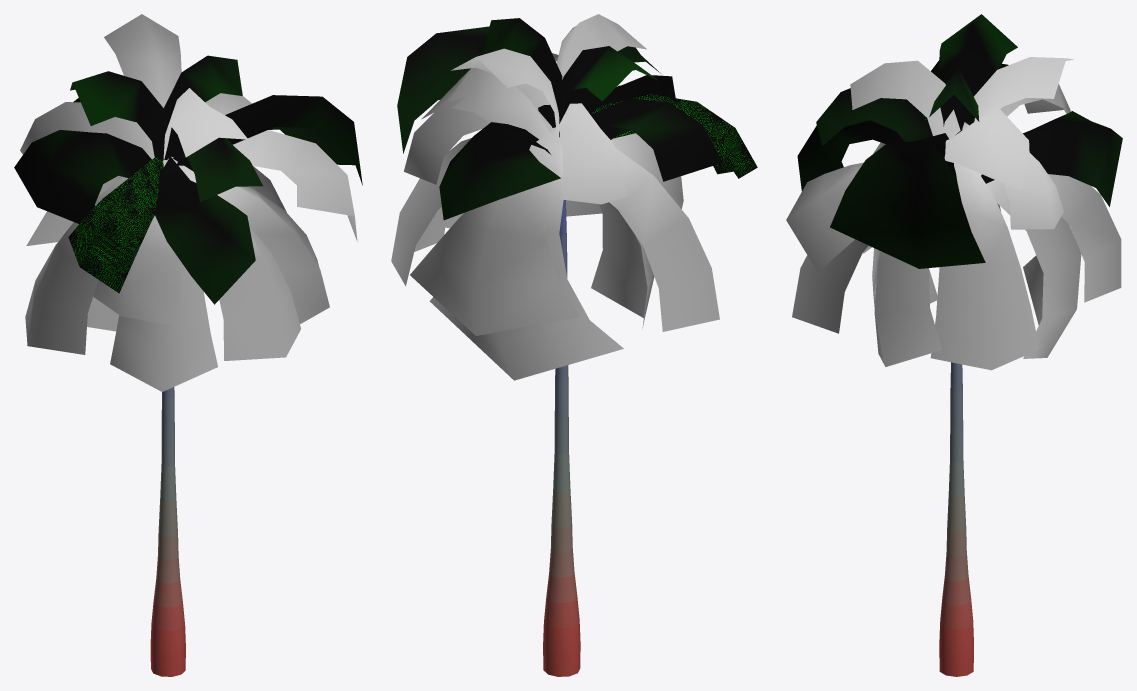
Rendered from PalmTree_single_afsTREE 1_xlb25_xlprl30_xef05.fbx.
3 views of the same model, side by side, from view 1: azimuth 30°, elevation 25°; view 2: azimuth 150°, elevation 25°; view 3: azimuth 270°, elevation 25° (orthographic). The views are drawn at different scales.
Visible parts, largest first — view 1: trunk01, Mesh_xp02 (×2), leaf_xp01, Mesh_xt06, Mesh (4), Mesh (3), Mesh_xw07, leaf_xw15, Mesh (6), Mesh_xp03_xt15, Mesh_xp04_xt20, leafx_xp05 (+4 smaller); view 2: Mesh_xw15, trunk01, Mesh (3), Mesh_xp03_xt07, Mesh_xp02 (×3), Mesh (5), leaf_xp01, Mesh_xgt22xp03, leaf_xw15, Mesh_xt06, Mesh (2), Mesh_xp04_xt20 (+3 smaller); view 3: trunk01, Mesh_xp02 (×2), leaf_xw15, Mesh_xp03_xt07, Mesh_xw07, Mesh (5), Mesh_xw15, Mesh (6), Mesh_xp04_xt20, leafx_xp05, Mesh_xp03_xt15, Mesh (2) (+2 smaller).
Boxes of the visible parts, left/top/right/bottom form: trunk01: left=150, top=93, right=300, bottom=676; Mesh_xp02 (×2): left=93, top=88, right=247, bottom=326; leaf_xp01: left=14, top=130, right=151, bottom=223; Mesh_xt06: left=110, top=263, right=217, bottom=391; Mesh (4): left=68, top=157, right=163, bottom=293; Mesh (3): left=25, top=176, right=127, bottom=354; Mesh_xw07: left=171, top=156, right=329, bottom=323; leaf_xw15: left=173, top=95, right=362, bottom=185; Mesh (6): left=233, top=130, right=357, bottom=241; Mesh_xp03_xt15: left=104, top=14, right=181, bottom=108; Mesh_xp04_xt20: left=70, top=71, right=170, bottom=160; leafx_xp05: left=177, top=137, right=262, bottom=202; Mesh_xw15: left=410, top=128, right=579, bottom=335; trunk01: left=421, top=67, right=675, bottom=676; Mesh (3): left=609, top=148, right=719, bottom=331; Mesh_xp03_xt07: left=429, top=169, right=623, bottom=380; Mesh_xp02 (×3): left=391, top=14, right=683, bottom=286; Mesh (5): left=439, top=122, right=560, bottom=220; leaf_xp01: left=591, top=98, right=722, bottom=181; Mesh_xgt22xp03: left=553, top=103, right=627, bottom=204; leaf_xw15: left=397, top=26, right=489, bottom=153; Mesh_xt06: left=591, top=202, right=654, bottom=329; Mesh (2): left=404, top=96, right=555, bottom=184; Mesh_xp04_xt20: left=559, top=46, right=658, bottom=137; trunk01: left=792, top=106, right=1029, bottom=676; Mesh_xp02 (×2): left=850, top=60, right=1039, bottom=370; leaf_xw15: left=830, top=133, right=985, bottom=268; Mesh_xp03_xt07: left=986, top=180, right=1081, bottom=358; Mesh_xw07: left=874, top=163, right=981, bottom=366; Mesh (5): left=981, top=111, right=1122, bottom=206; Mesh_xw15: left=981, top=174, right=1121, bottom=302; Mesh (6): left=786, top=162, right=863, bottom=271; Mesh_xp04_xt20: left=939, top=14, right=1017, bottom=135; leafx_xp05: left=816, top=88, right=932, bottom=146; Mesh_xp03_xt15: left=962, top=57, right=1073, bottom=130; Mesh (2): left=1003, top=139, right=1063, bottom=229.
Size of the model in its own units: 11680 by 21378 by 10444.
